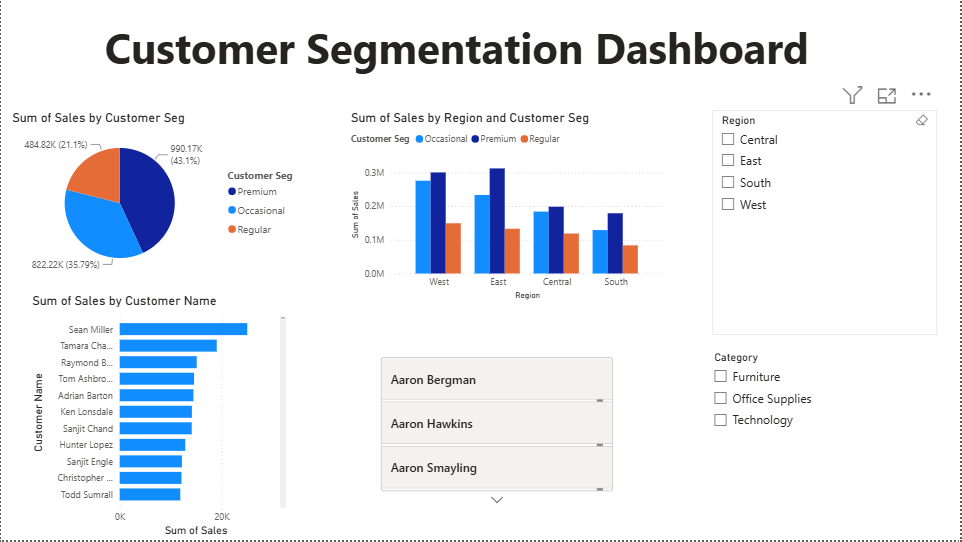

Layout of this report page (visuals, bound fields, positions):
{"tool":"powerbi","page":{"name":"Page 1","canvas":[1280,720],"ordinal":0},"visuals":[{"type":"pieChart","fields":{"Category":["Sample - Superstore.Customer Seg"],"Y":["Sum(Sample - Superstore.Sales)"]},"box":[9.6,146.8,402.1,229.2],"z":0},{"type":"clusteredBarChart","fields":{"Category":["Sample - Superstore.Customer Name"],"Y":["Sum(Sample - Superstore.Sales)"]},"box":[37,389.7,348.5,330.7],"z":1000},{"type":"clusteredColumnChart","fields":{"Category":["Sample - Superstore.Region"],"Series":["Sample - Superstore.Customer Seg"],"Y":["Sum(Sample - Superstore.Sales)"]},"box":[461.1,146.8,426.8,258],"z":2000},{"type":"cardVisual","fields":{"Data":["Sum(Sample - Superstore.Sales)"],"Rows":["Sample - Superstore.Customer Name"]},"box":[500.9,451.5,319.7,229.2],"z":3000},{"type":"slicer","fields":{"Values":["Sample - Superstore.Region"]},"box":[948.2,146.8,300.5,300.5],"z":4000},{"type":"slicer","fields":{"Values":["Sample - Superstore.Category"]},"box":[938.6,463.8,319.7,229.2],"z":5000},{"type":"textbox","box":[133.1,20.6,1008.6,97.4],"z":6000}]}

Visuals, with their boxes in screenshot pixels (x1, y1, x2, y2), scaled from the page's 1280x720 canvas onto the 962x542 screenshot:
pieChart - Sample - Superstore.Customer Seg x Sum(Sample - Superstore.Sales): left=7, top=111, right=309, bottom=283
clusteredBarChart - Sample - Superstore.Customer Name x Sum(Sample - Superstore.Sales): left=28, top=293, right=290, bottom=541
clusteredColumnChart - Sample - Superstore.Region x Sample - Superstore.Customer Seg: left=347, top=111, right=667, bottom=305
cardVisual - Sum(Sample - Superstore.Sales) x Sample - Superstore.Customer Name: left=376, top=340, right=617, bottom=512
slicer - Sample - Superstore.Region: left=713, top=111, right=938, bottom=337
slicer - Sample - Superstore.Category: left=705, top=349, right=946, bottom=522
textbox: left=100, top=16, right=858, bottom=89
